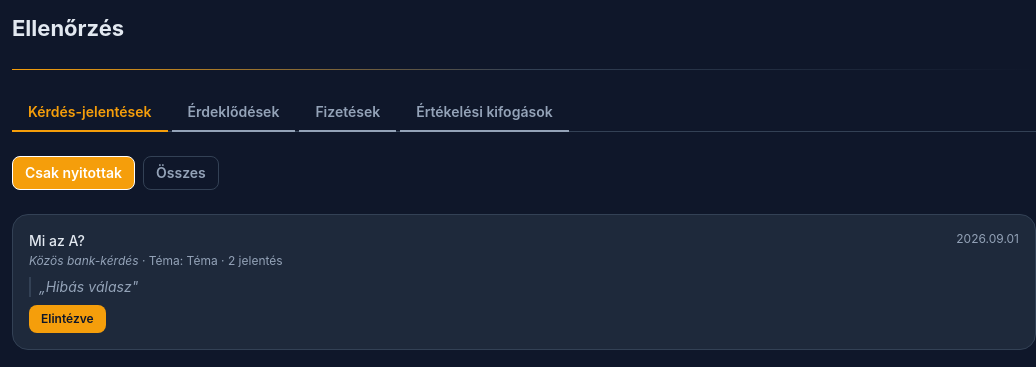
it: AdminEllenorzesComponent - A5: kérdés-jelentések admin nézet › az "Elintézve" gomb kattintásakor resolve() hívódik és a sor eltűnik
The image size is (1036, 367).
What coordinates should you click on to do the following:
click the button "Elintézve"
I would click on:
 (67, 319)
Its box is 29,305 -> 106,333.
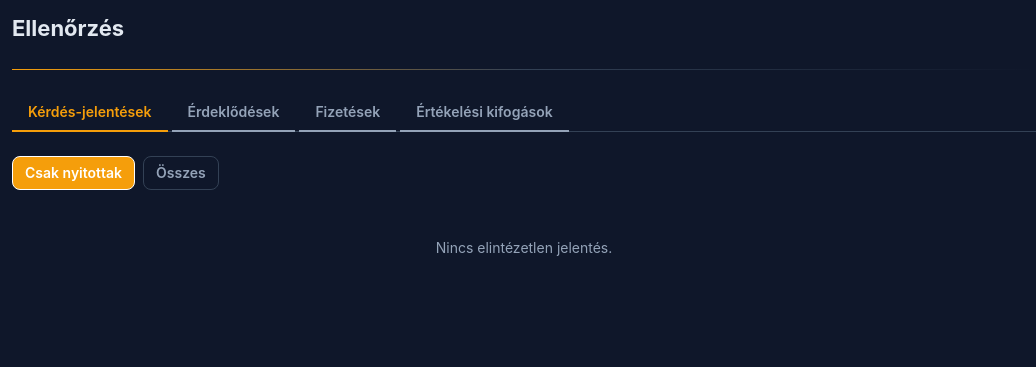
Now the text "Nincs elintézetlen jelentés." is shown, box 436,239 -> 612,256
